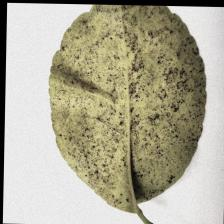canker: (80, 29, 182, 155)
